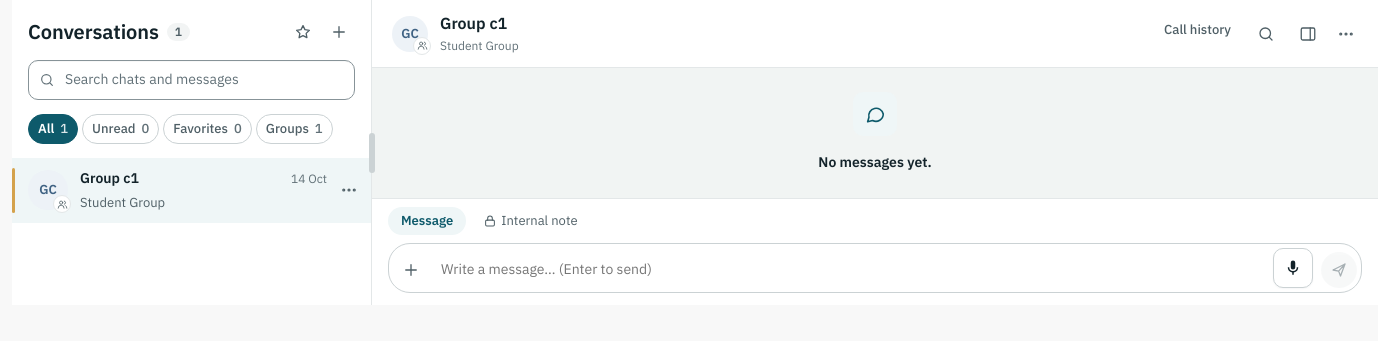
Test: Admin chat workspace › a refused send is shown as NOT sent with the server reason, and Retry reuses the same id
Expected: the text "No messages yet." is shown, [818,152,932,174]
Type "will fail" into the dropdown labelled "message" at (851, 270), box [437,252,1265,288]
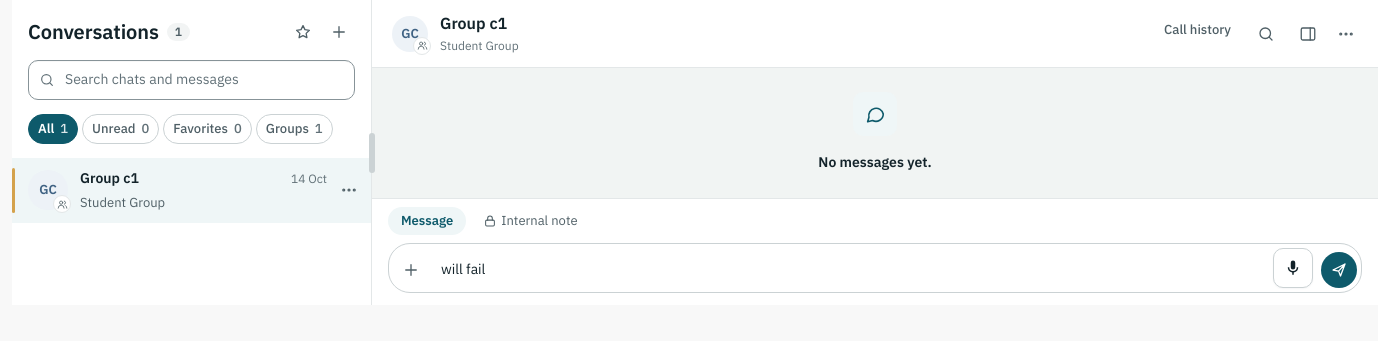
Click the button named "Send" at (1339, 270), box [1321,252,1357,288]
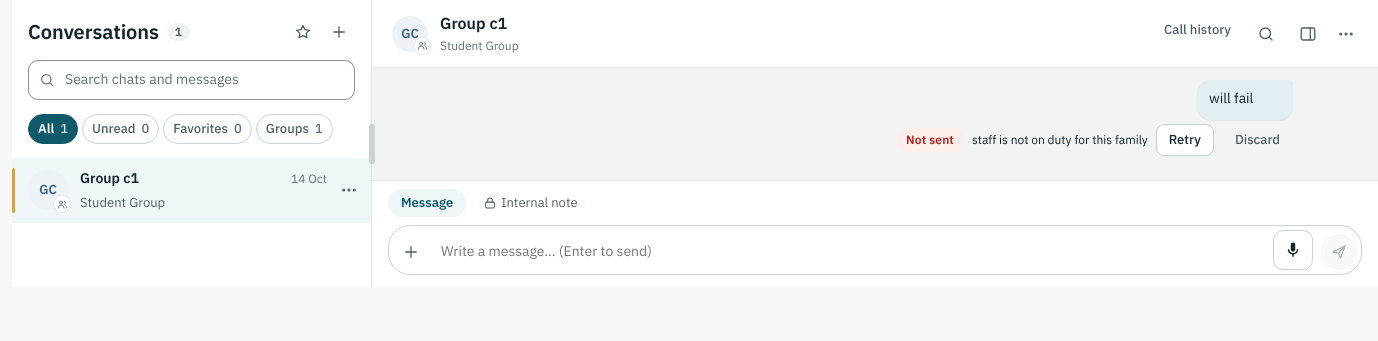
Expected: the text "Not sent" is shown, [896,128,964,152]
Expected: the message reads "staff is not on duty for this family", [972,131,1148,149]
Click the button "Retry" at (1185, 140), box [1156,124,1214,156]
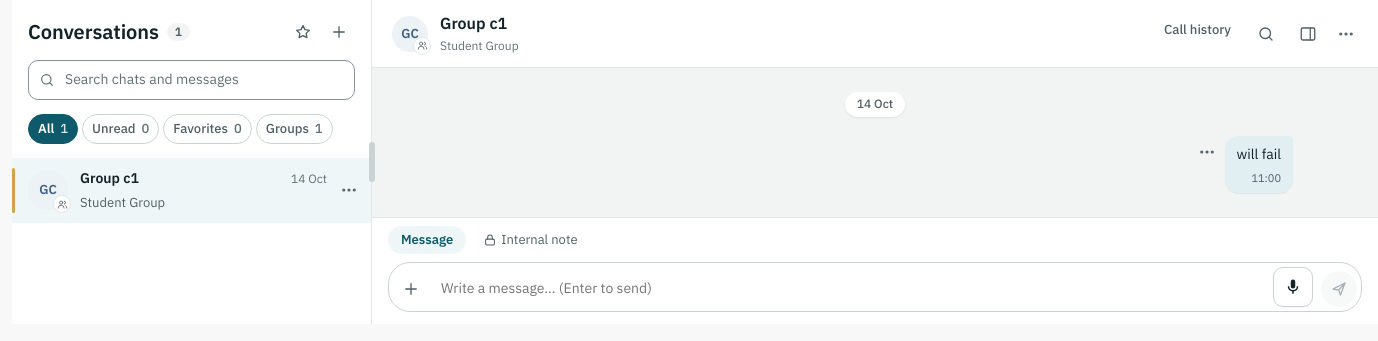
Expected: the text "Not sent" is gone
Expected: the text "will fail" is shown once, [1237,144,1281,166]
